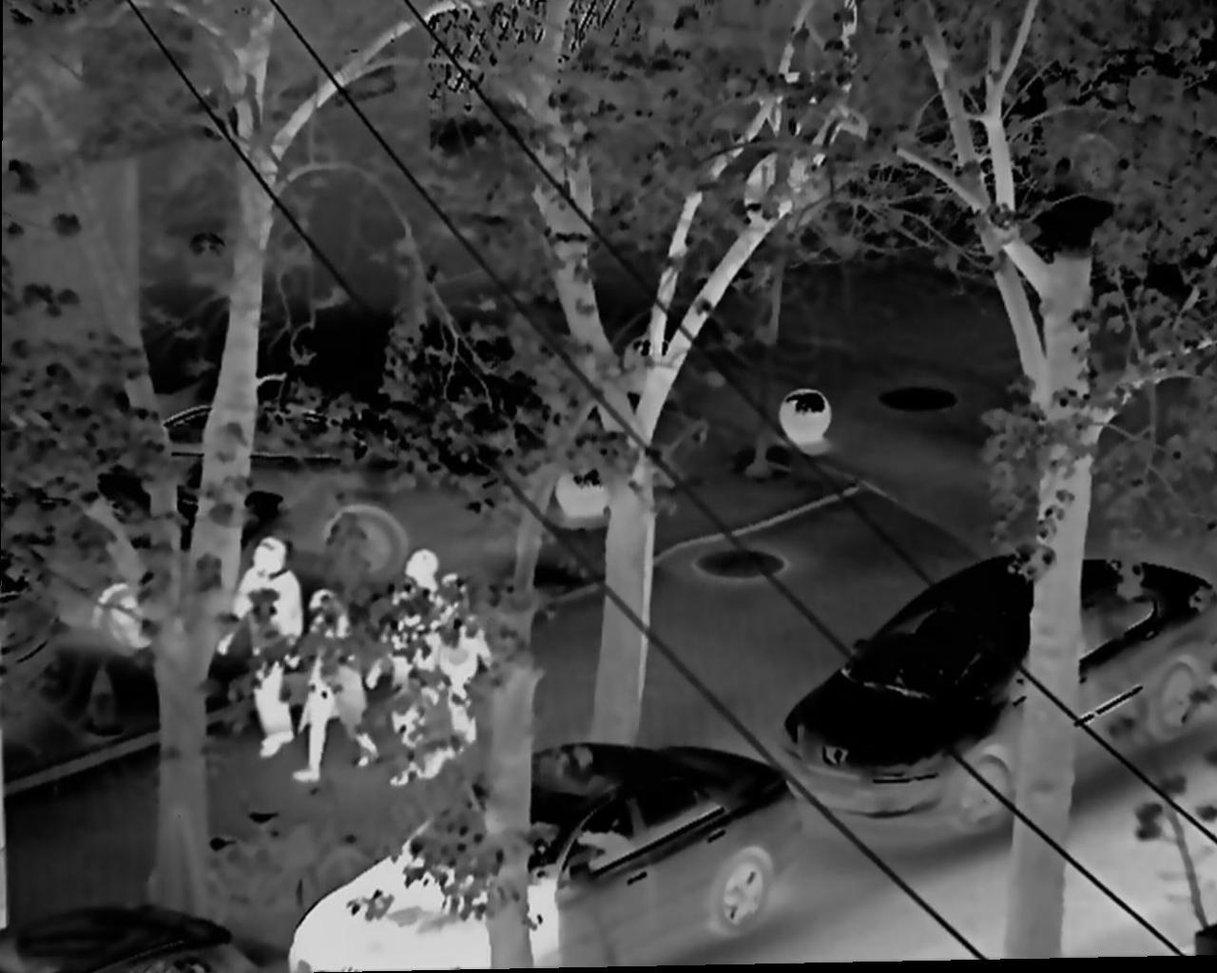person: (212, 531, 301, 754), (294, 584, 371, 793), (428, 567, 499, 772), (377, 542, 435, 709)
